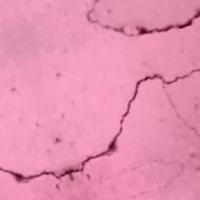crack: (0, 60, 199, 188)
